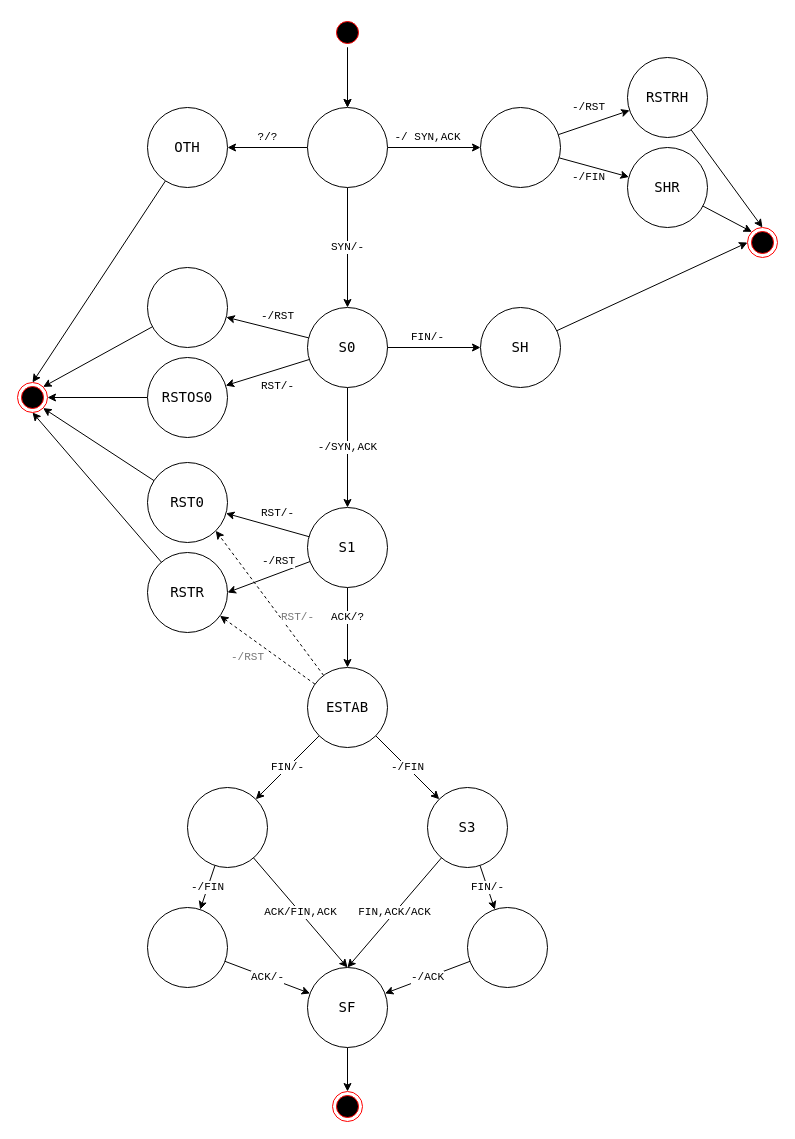
Some shapes in this 795 by 1139 pixel diagram are drawn without their labels. Each missing label, with the centre of its shape:
"INIT" belongs at [347,147].
"REJ" belongs at [187,307].
"S2" belongs at [227,827].
"S2F" belongs at [187,947].
"S3F" belongs at [507,947].
"S4" belongs at [520,147].
